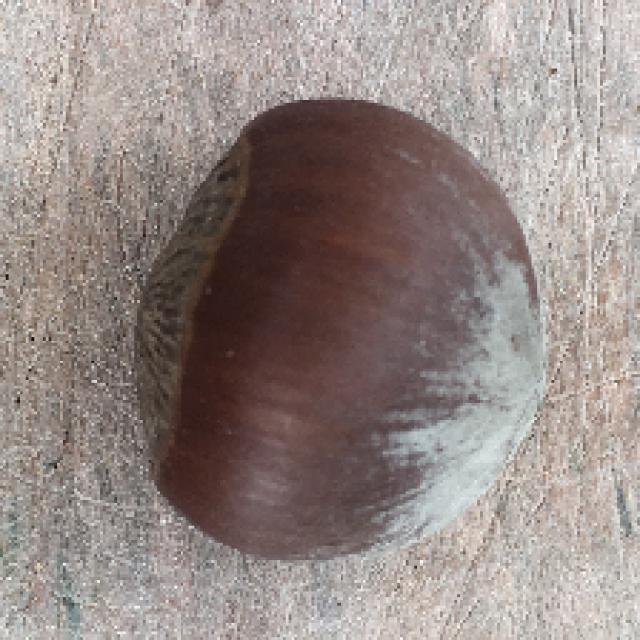damagedHazelnut: (131, 95, 548, 561)
